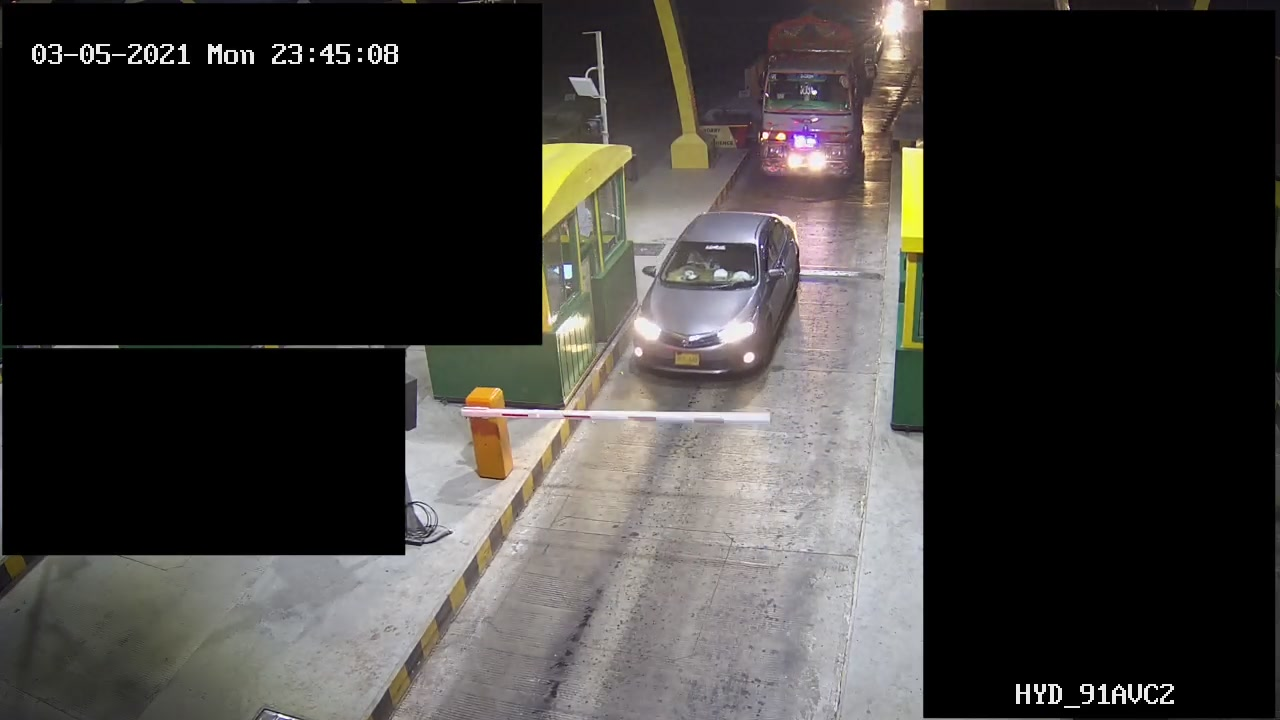F1: (620, 198, 818, 405)
